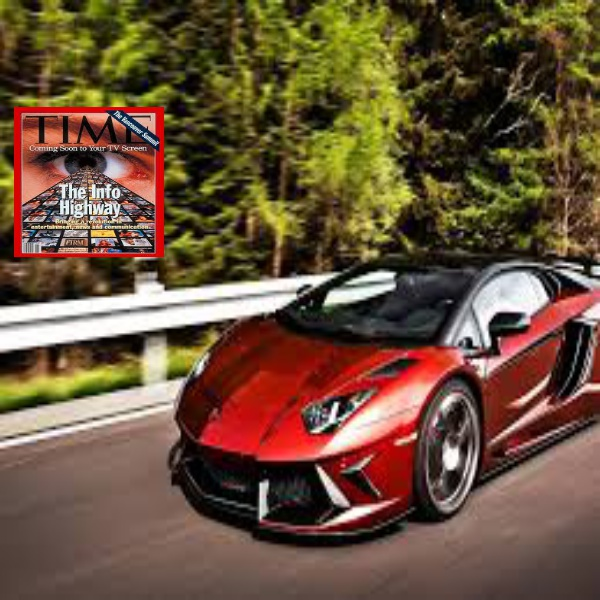time_cover: (5, 99, 169, 261)
